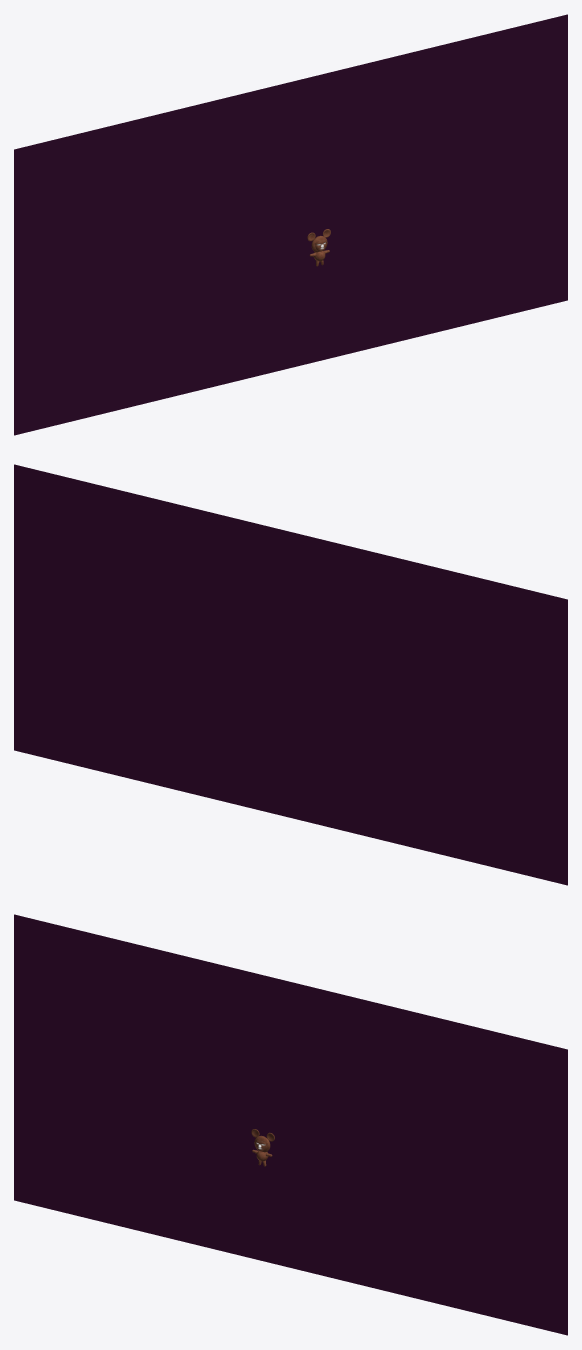
File: Teddy.glb
3 views of the same model, one above another, from view 1: azimuth 30°, elevation 25°; view 2: azimuth 150°, elevation 25°; view 3: azimuth 330°, elevation 25° (orthographic).
Visible parts, largest first — view 1: TeddyBackground; view 2: TeddyBackground; view 3: TeddyBackground.
Boxes of the visible parts, bbox=[...] form: TeddyBackground: bbox=[14, 14, 567, 435]; TeddyBackground: bbox=[14, 464, 567, 885]; TeddyBackground: bbox=[14, 914, 567, 1335].
Bounding box in the file's own units: 8.73 × 4.31 × 0.8742.
Materials: 4 (2 with a texture image).
